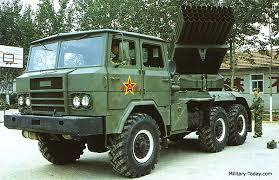MIL_SAM_TEL: (10, 0, 251, 173)
